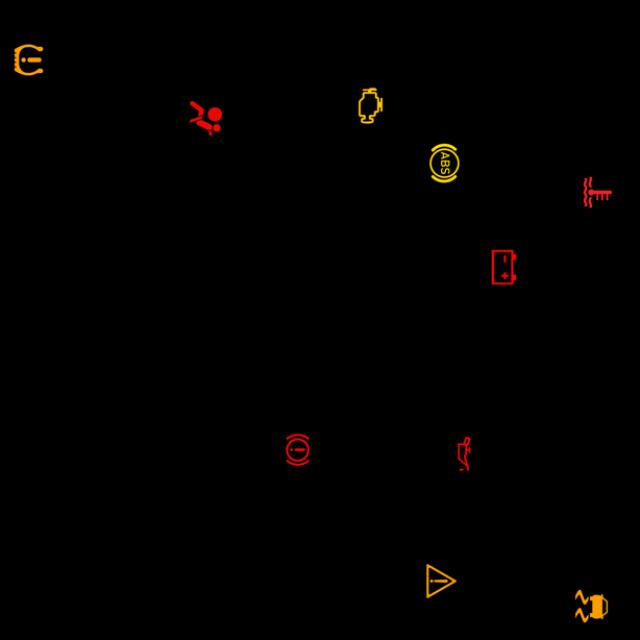Anti Lock Braking System: (423, 142, 466, 184)
Braking System Issue: (276, 429, 319, 471)
Charging System Issue: (483, 246, 525, 289)
Check Engine: (349, 85, 392, 127)
Electronic Stability Problem -ESP-: (570, 585, 613, 627)
Engine Overheating Warning Light: (577, 171, 619, 214)
Low Engine Oil Warning Light: (443, 433, 486, 475)
Low Tire Pressure Warning Light: (7, 39, 50, 81)
Master warning light: (420, 560, 463, 602)
SRS-Airbag: (185, 97, 227, 140)
